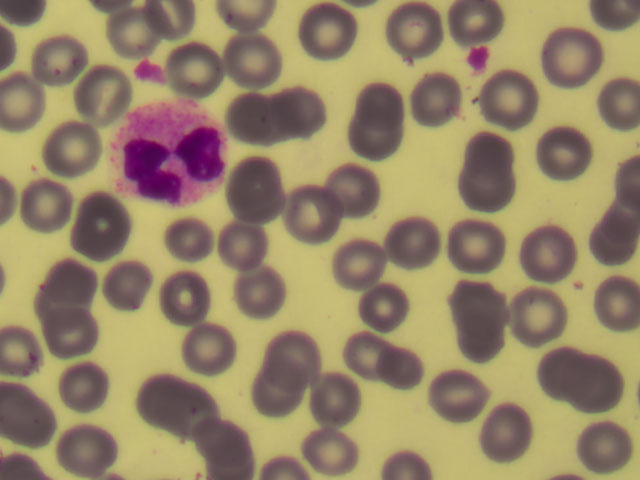Platelets: (128, 56, 170, 91), (463, 46, 496, 78)
RBC: (29, 30, 96, 88), (39, 120, 106, 178), (66, 66, 133, 124), (17, 175, 84, 233), (68, 198, 135, 256), (37, 254, 104, 312), (24, 301, 91, 359), (95, 255, 162, 313), (53, 356, 120, 414), (57, 417, 124, 475), (6, 387, 73, 445), (129, 372, 196, 430), (169, 392, 236, 450), (187, 419, 254, 477), (183, 322, 250, 380), (158, 273, 225, 331), (158, 212, 225, 270), (208, 218, 275, 276), (224, 261, 291, 319), (261, 322, 328, 380), (247, 366, 314, 424), (296, 362, 363, 420), (299, 422, 366, 480), (332, 331, 399, 389), (375, 339, 442, 397), (351, 282, 418, 340), (326, 239, 393, 297), (380, 213, 447, 271), (326, 159, 393, 217), (281, 185, 348, 243), (228, 161, 295, 219), (219, 87, 286, 145), (269, 89, 336, 147), (174, 44, 241, 102), (210, 39, 277, 97), (285, 7, 352, 65), (342, 69, 409, 127), (348, 108, 415, 166), (444, 120, 511, 178), (452, 156, 519, 214), (511, 219, 578, 277), (449, 216, 516, 274), (452, 278, 519, 336), (450, 320, 517, 378), (434, 362, 501, 420), (469, 399, 536, 457), (542, 351, 609, 409), (573, 366, 640, 424), (508, 289, 575, 347), (573, 273, 640, 331), (573, 210, 640, 268), (529, 123, 596, 181), (541, 29, 608, 87), (483, 69, 550, 127), (573, 422, 640, 480), (1, 73, 67, 131), (382, 1, 449, 58), (108, 1, 175, 58)
WBC: (109, 102, 229, 209)
